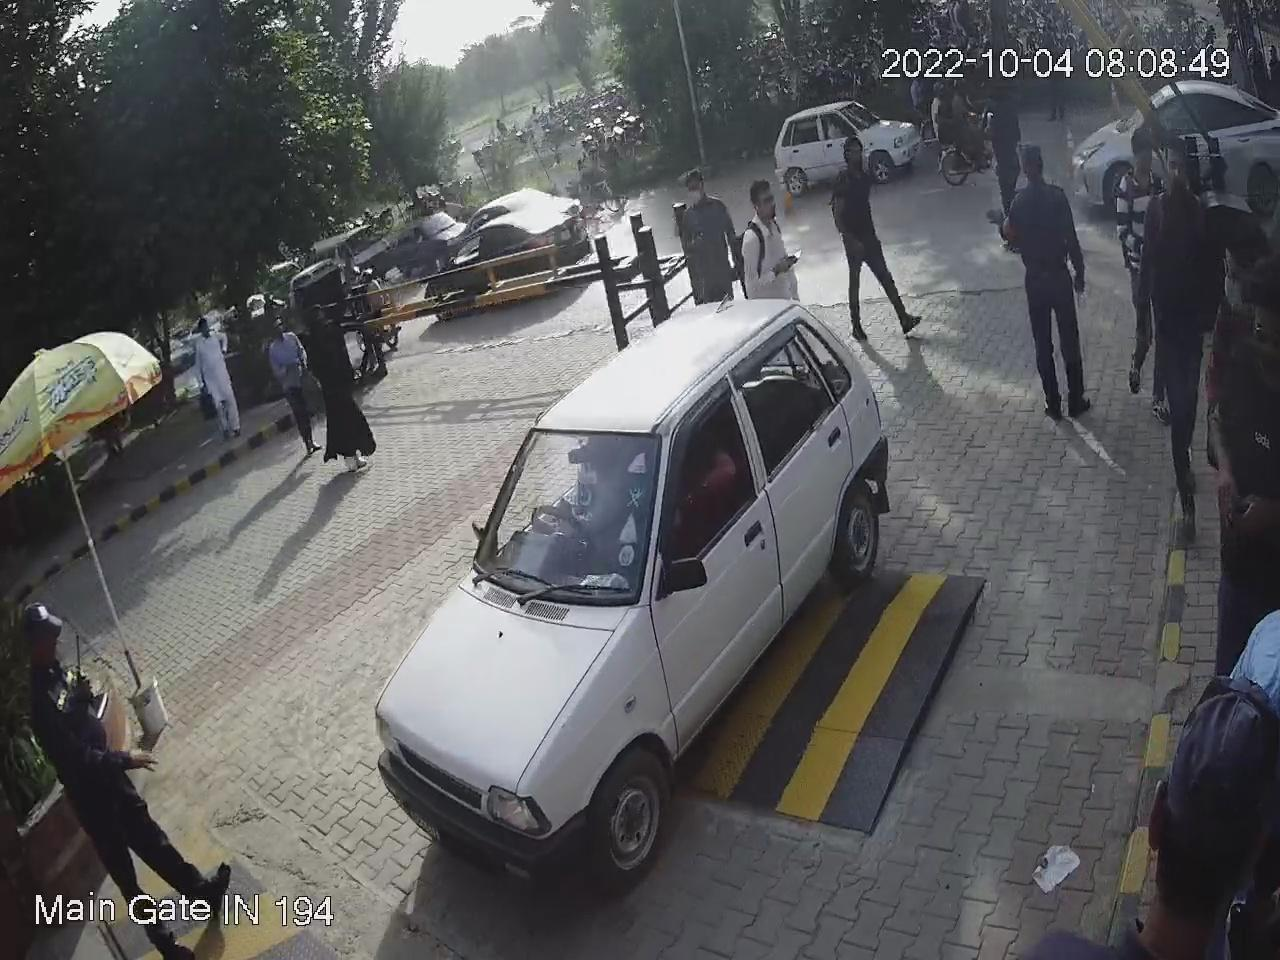windshield: (468, 419, 668, 607)
